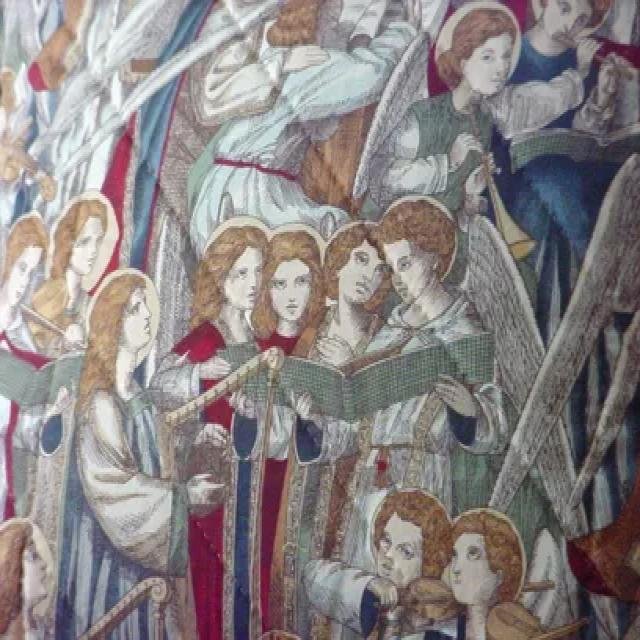angel: (34, 270, 286, 640)
